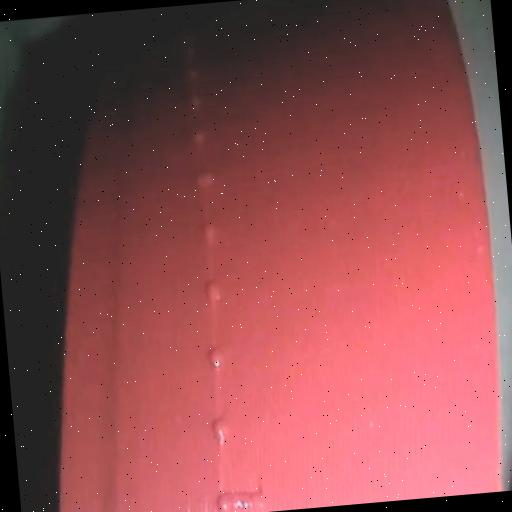blobs: (214, 483, 264, 512), (200, 274, 228, 310), (207, 417, 238, 448), (202, 344, 230, 372), (194, 164, 218, 196), (187, 124, 210, 150), (200, 215, 222, 242), (186, 92, 205, 112)
